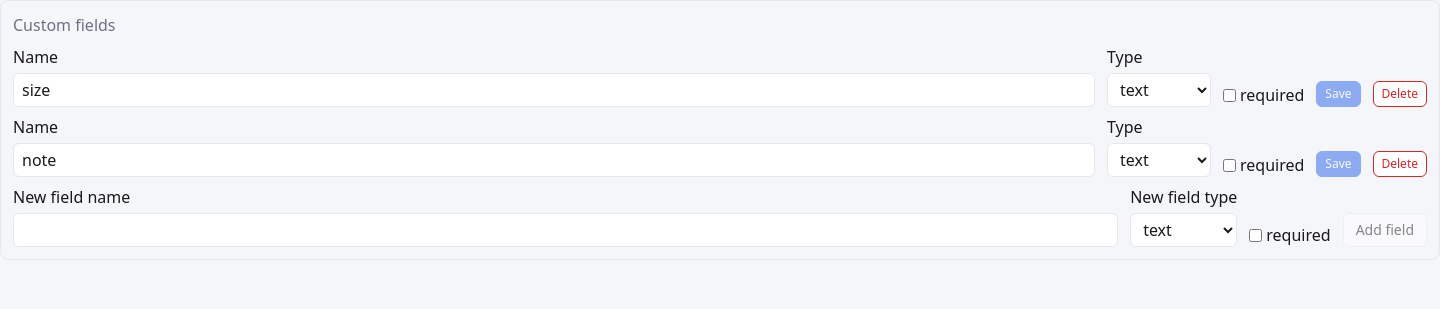
Test: the required toggle › reports a failed check and still applies the toggle
Click the checkbox named "size required".
click(1230, 95)  # box [1223,88,1236,102]
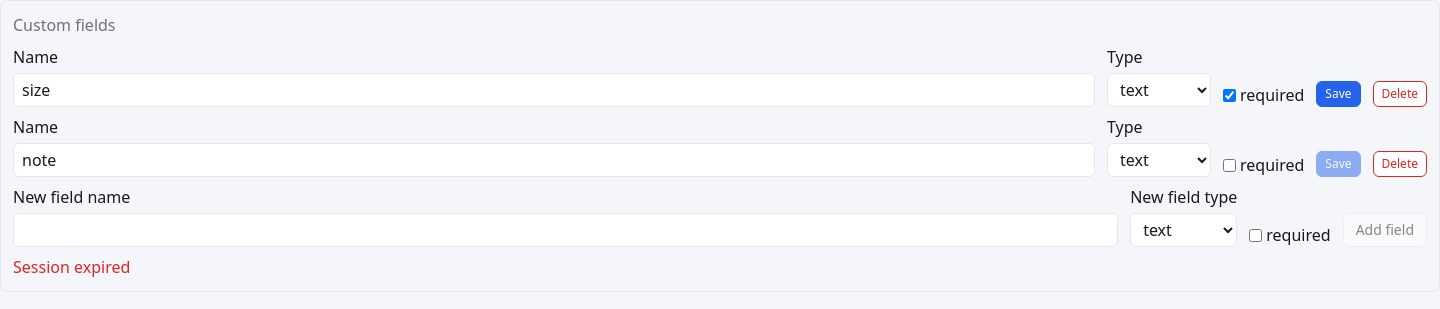
Now the checkbox named "size required" is checked, box [1223,88,1236,102]
Now the message reads "Session expired", box [13,256,130,278]
